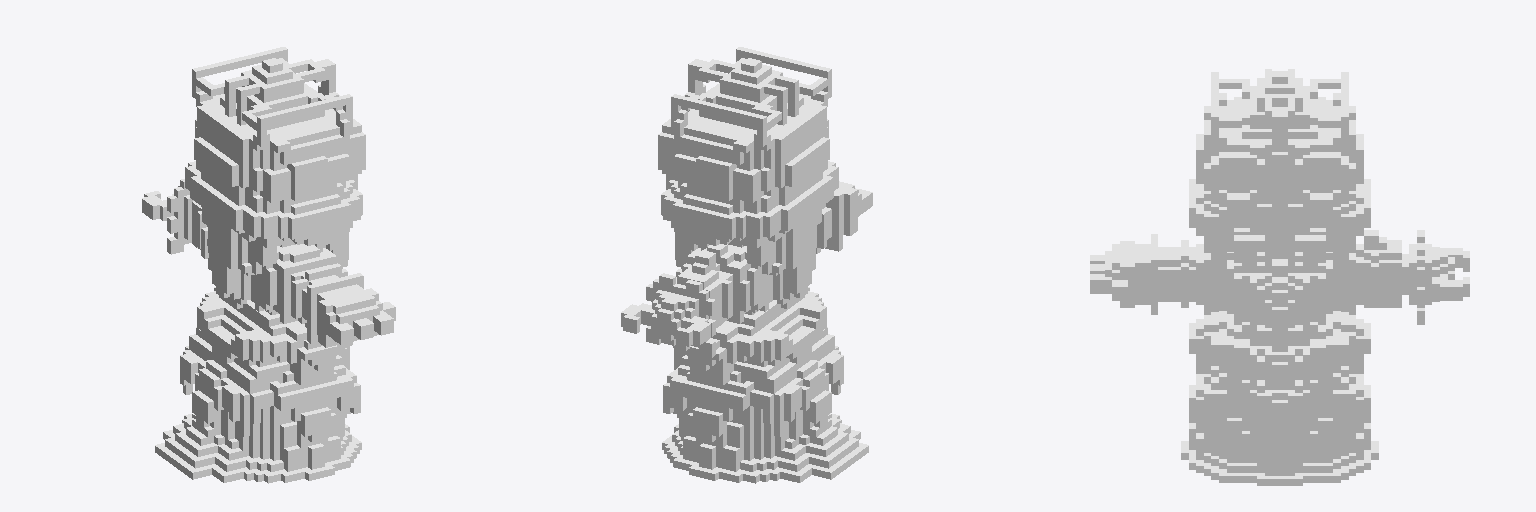
File: Disfraz3.obj
3 views of the same model, side by side, from view 1: azimuth 30°, elevation 25°; view 2: azimuth 150°, elevation 25°; view 3: azimuth 270°, elevation 25° (orthographic).
Parts seen in each view (by area): view 1: object 1; view 2: object 1; view 3: object 1.
Part boxes in pixels (x1,y1,x2,y2): object 1: (142,47,395,483); object 1: (621,47,872,483); object 1: (1090,69,1469,485).
Size of the model in its own units: 2.5 by 5.5 by 5.